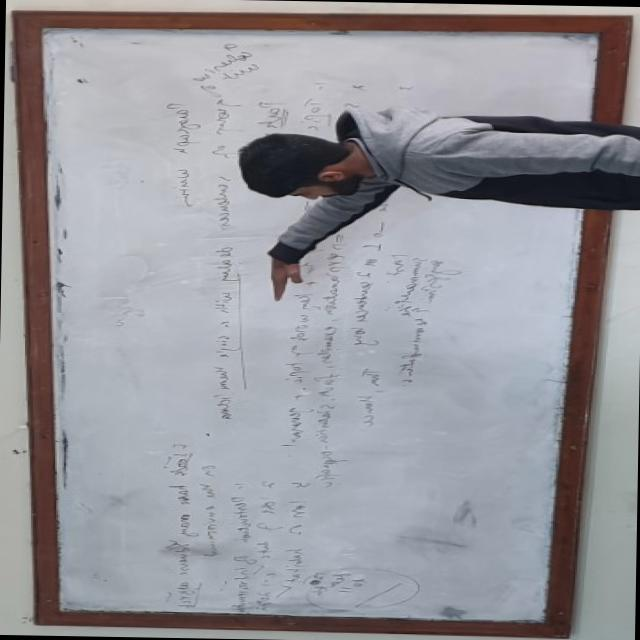Instructor: (215, 108, 640, 220)
White-board: (26, 20, 613, 628)
